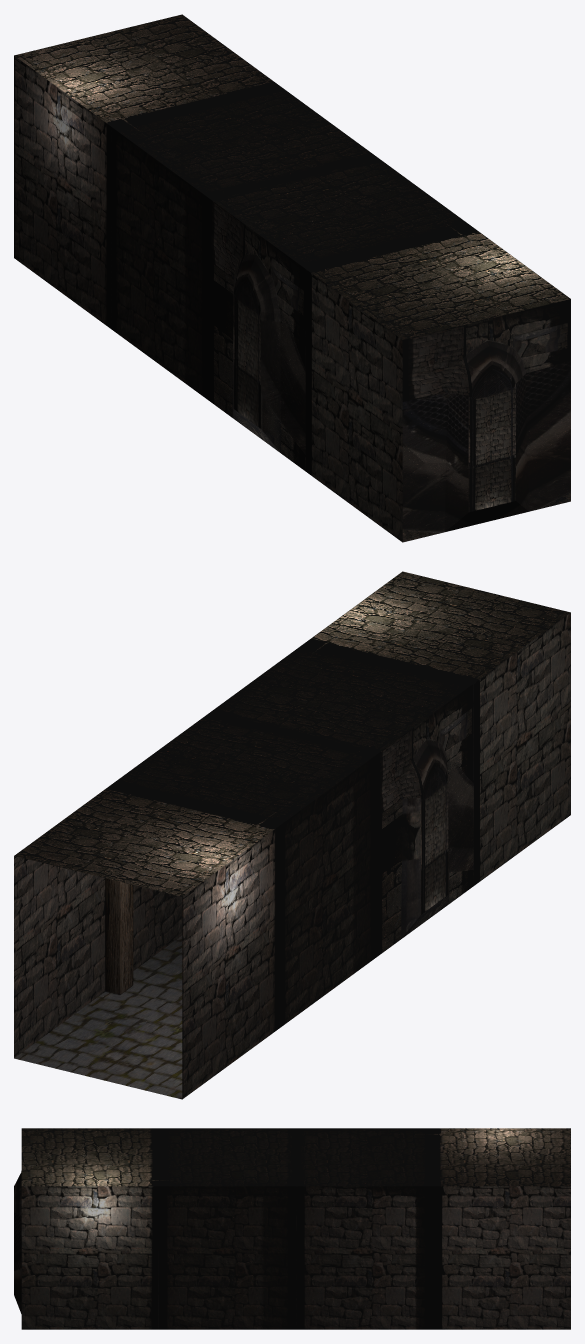
The model's file is corredor01.fbx.
3 views of the same model, one above another, from view 1: azimuth 30°, elevation 25°; view 2: azimuth 150°, elevation 25°; view 3: azimuth 270°, elevation 25° (orthographic). The views are drawn at different scales.
Parts seen in each view (by area): view 1: castle_wall.01, castle_ceiling01; view 2: castle_wall.01, castle_ceiling01, castle_floor01, castle_beam.01; view 3: castle_wall.01, castle_ceiling01.
Part boxes in pixels (<box>): castle_wall.01: <box>14,56,570,542</box>; castle_ceiling01: <box>14,14,570,339</box>; castle_wall.01: <box>14,613,570,1099</box>; castle_ceiling01: <box>14,571,570,896</box>; castle_floor01: <box>14,935,182,1099</box>; castle_beam.01: <box>105,878,133,994</box>; castle_wall.01: <box>14,1171,570,1329</box>; castle_ceiling01: <box>21,1128,570,1186</box>.
Bounding box in the file's own units: 211 × 230 × 811.
